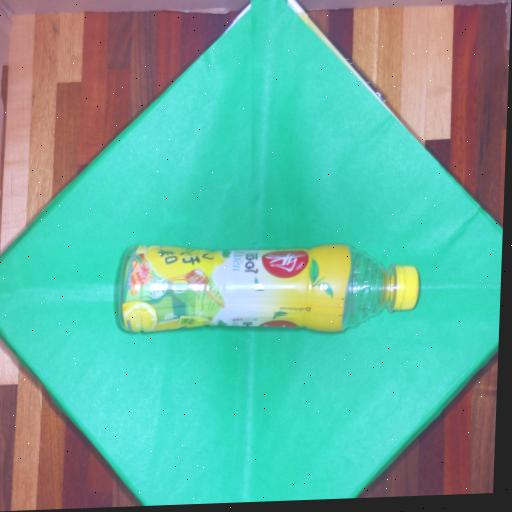bottle: (118, 245, 418, 332)
